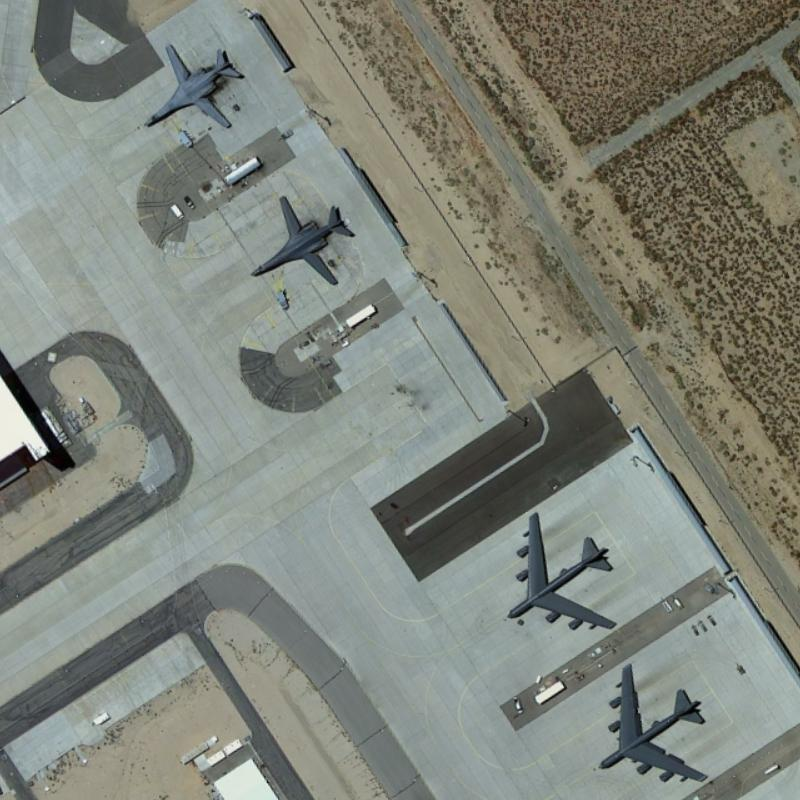A10: (244, 189, 362, 290), (135, 34, 242, 136)
A8: (498, 501, 622, 638), (589, 652, 712, 788)
